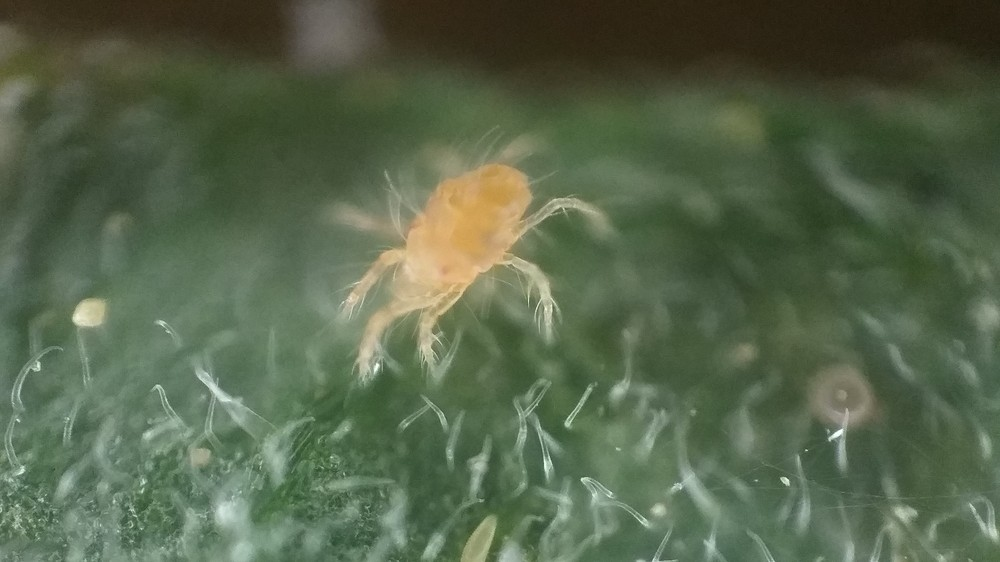Aracnido Rojo: (320, 123, 623, 390)
